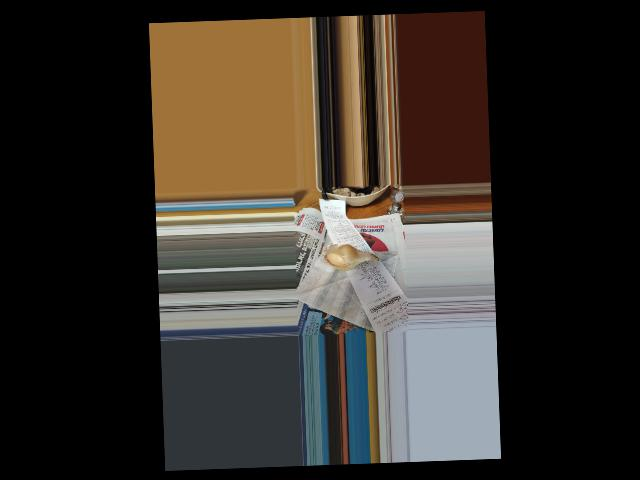onion: (324, 243, 372, 271)
